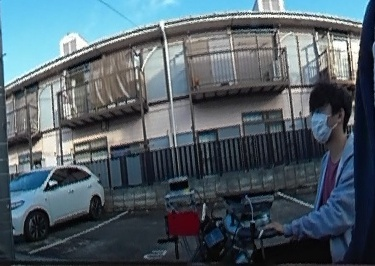person: (283, 77, 361, 266)
